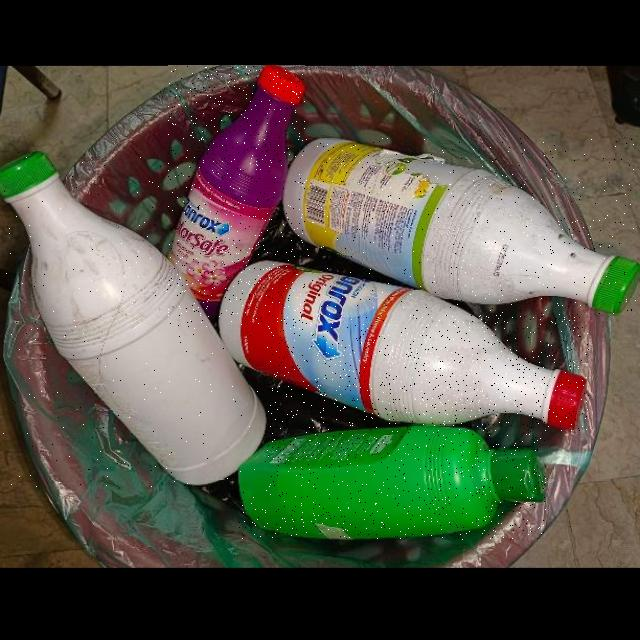plastic: (0, 152, 267, 488), (282, 139, 639, 315), (219, 262, 589, 431), (168, 66, 305, 327), (238, 426, 546, 540)
